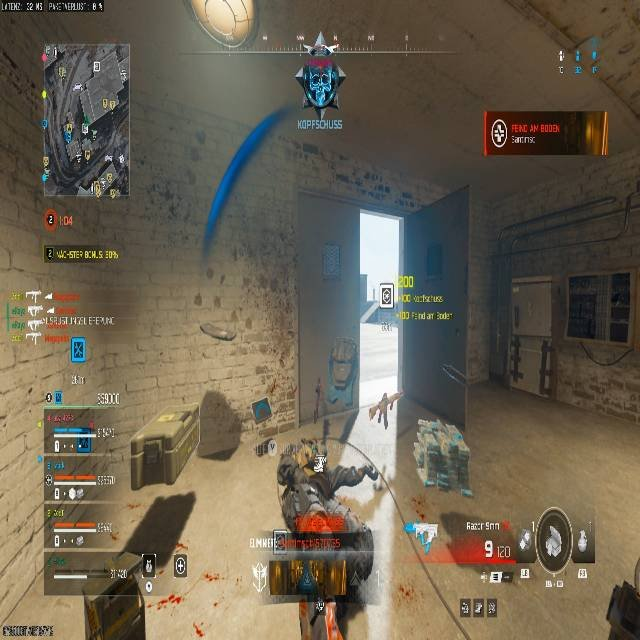player: (275, 439, 378, 640), (296, 37, 345, 117)
